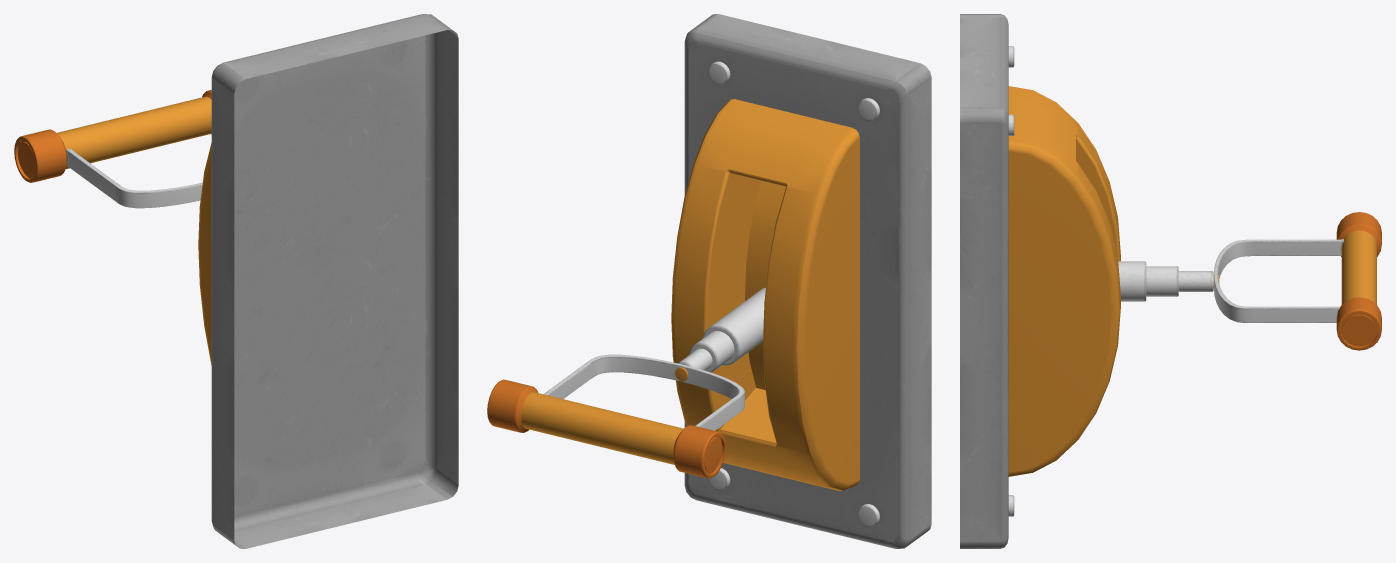
File: stylized_lever.glb
3 renders of one model, left to right at view 1: azimuth 30°, elevation 25°; view 2: azimuth 150°, elevation 25°; view 3: azimuth 270°, elevation 25°, orthographic. The views are drawn at different scales.
Visible parts, largest first — view 1: New_Lever_base, New_Lever_handle, New_Lever_cover; view 2: New_Lever_cover, New_Lever_base, New_Lever_handle; view 3: New_Lever_cover, New_Lever_base, New_Lever_handle.
Boxes of the visible parts, bbox=[...] form: New_Lever_base: bbox=[211, 14, 458, 548]; New_Lever_handle: bbox=[14, 90, 211, 208]; New_Lever_cover: bbox=[198, 143, 211, 365]; New_Lever_cover: bbox=[671, 99, 859, 490]; New_Lever_base: bbox=[684, 14, 931, 548]; New_Lever_handle: bbox=[487, 287, 765, 478]; New_Lever_cover: bbox=[1008, 86, 1120, 476]; New_Lever_base: bbox=[960, 14, 1008, 548]; New_Lever_handle: bbox=[1118, 212, 1381, 350].
Bounding box in the file's own units: 0.225 × 0.45 × 0.3906.
Materials: 1 (1 with a texture image).
